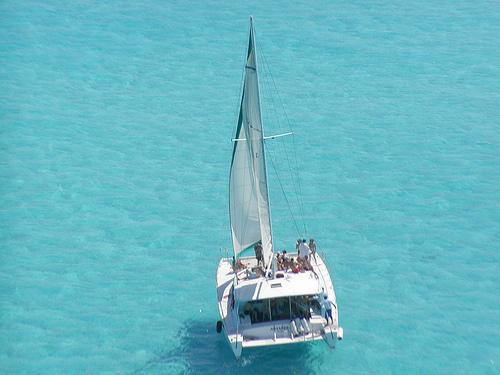Ship: (216, 15, 345, 359)
